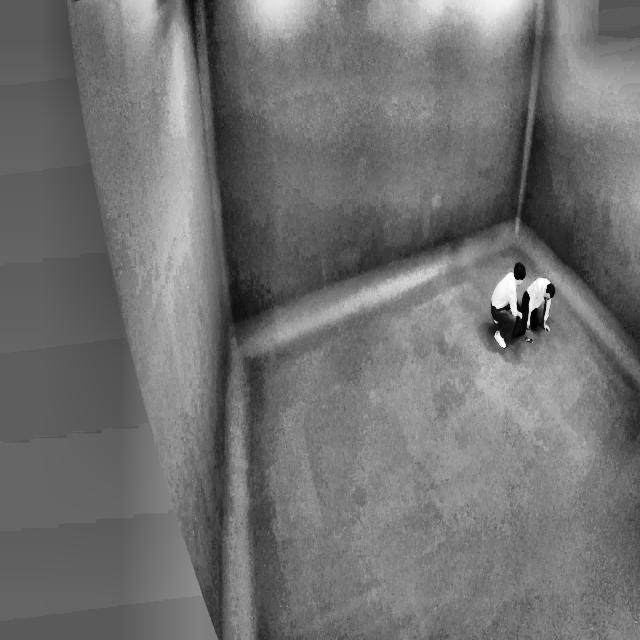assult: (485, 261, 560, 352)
